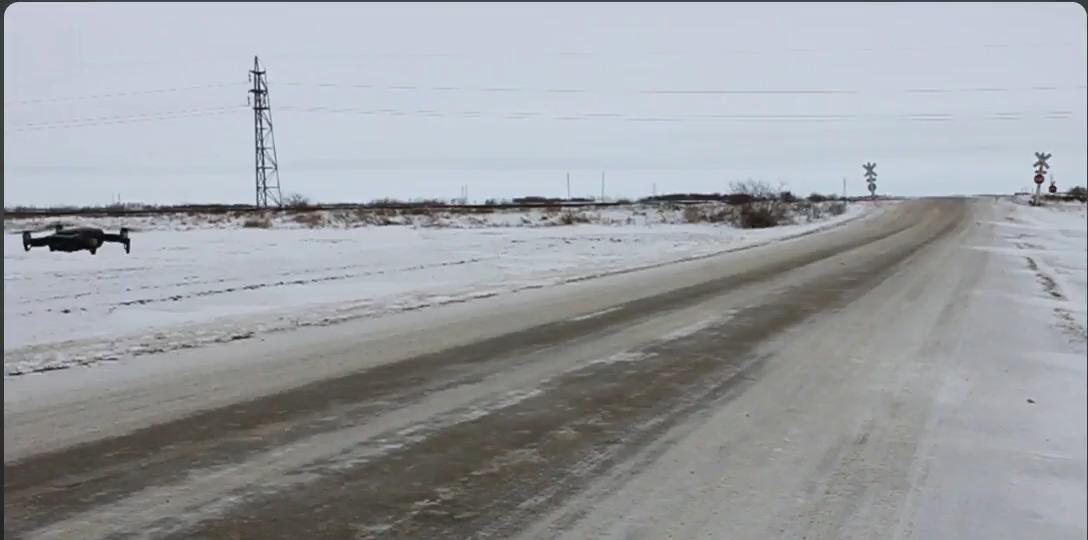dr: (11, 215, 138, 261)
